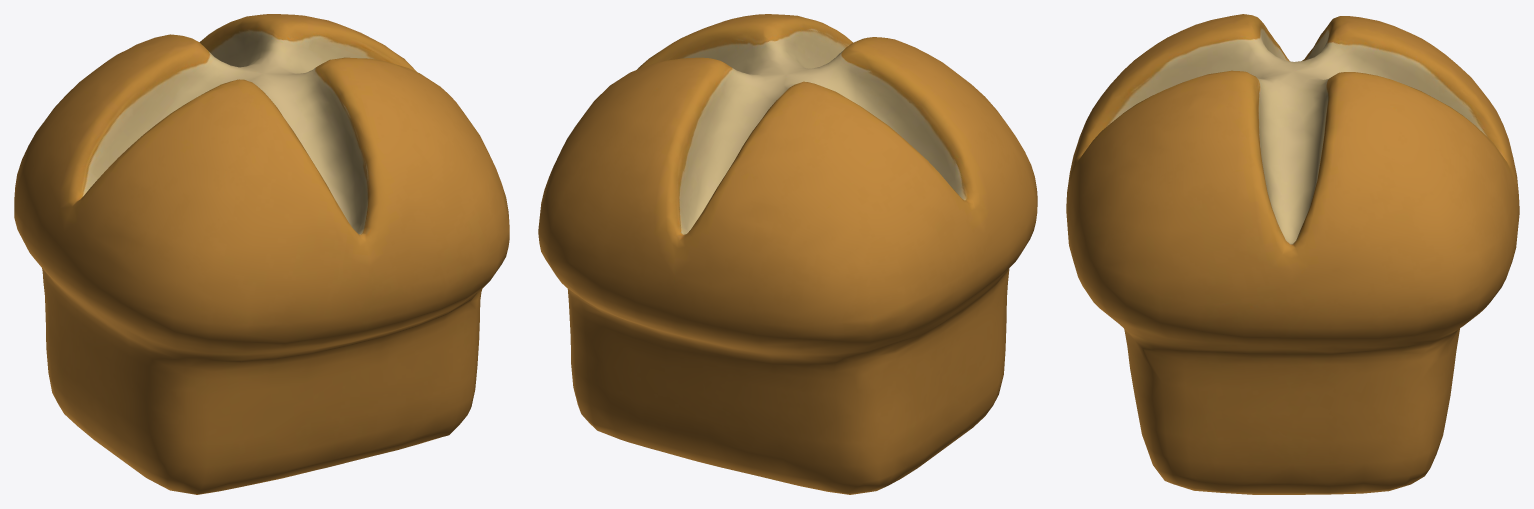
The model's file is asset_pack_item_glb-vd7d0dcraj58ycbcm7n9arqjjx8bztjr-13-ks768b0fcnwc6zzqsnz4mvxh4d8bz204.glb.
3 views of the same model, side by side, from view 1: azimuth 30°, elevation 25°; view 2: azimuth 150°, elevation 25°; view 3: azimuth 270°, elevation 25° (orthographic).
Visible parts, largest first — view 1: prop-bread; view 2: prop-bread; view 3: prop-bread.
Part boxes in pixels (left/top/right/bottom): prop-bread: left=14, top=14, right=509, bottom=494; prop-bread: left=538, top=14, right=1037, bottom=494; prop-bread: left=1066, top=14, right=1519, bottom=494.
Size of the model in its own units: 0.998 by 0.916 by 0.9707.
1 material, 1 textured.
